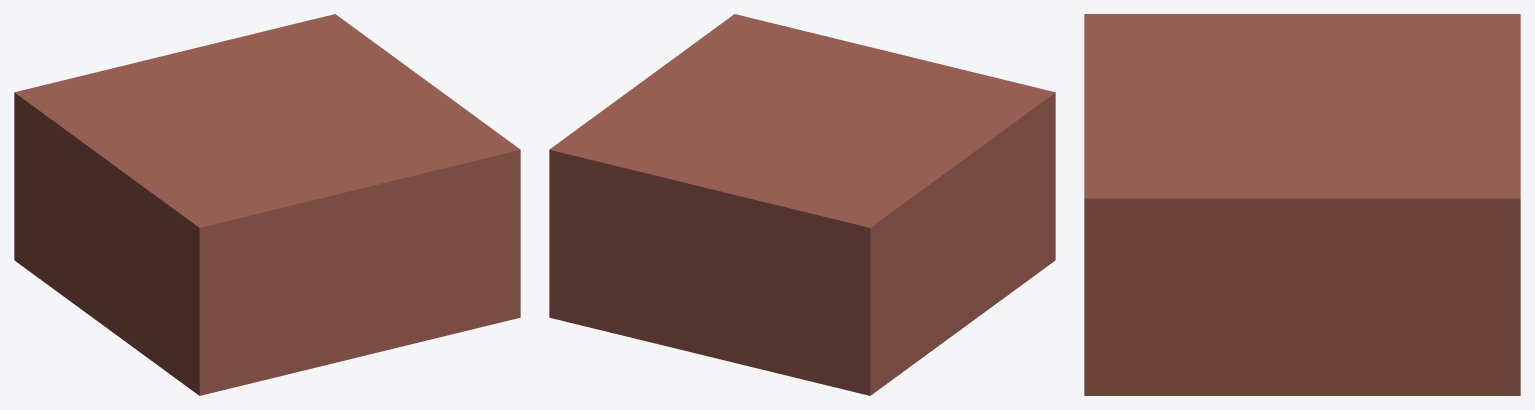
The model's file is Hazard_Half.glb.
3 renders of one model, left to right at view 1: azimuth 30°, elevation 25°; view 2: azimuth 150°, elevation 25°; view 3: azimuth 270°, elevation 25°, orthographic. The views are drawn at different scales.
Parts seen in each view (by area): view 1: Hazard_Half_body; view 2: Hazard_Half_body; view 3: Hazard_Half_body.
Boxes of the visible parts, left/top/right/bottom form: Hazard_Half_body: left=14, top=14, right=520, bottom=395; Hazard_Half_body: left=549, top=14, right=1055, bottom=395; Hazard_Half_body: left=1084, top=14, right=1520, bottom=395.
Size of the model in its own units: 1 by 0.5 by 1.
